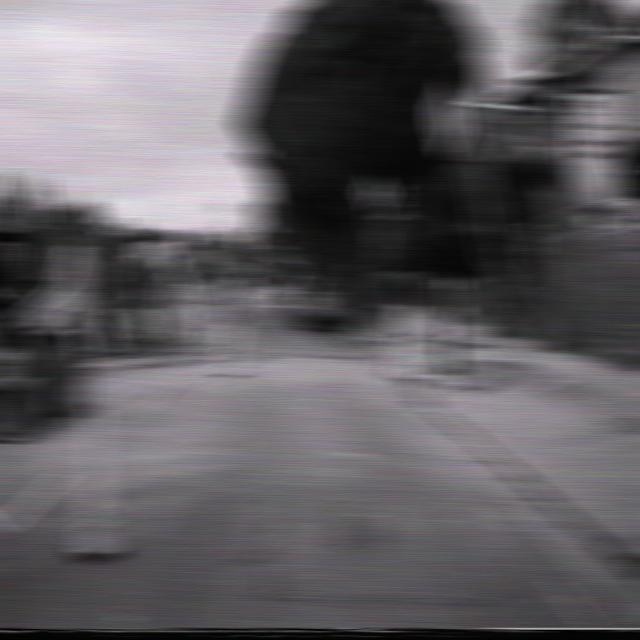noRightTurn: (392, 319, 429, 365)
pedestrianCrossing: (360, 173, 391, 212)
